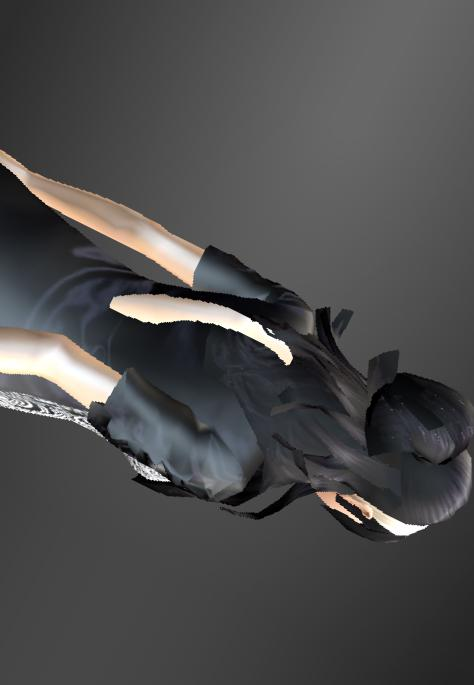clip: (98, 285, 144, 328)
